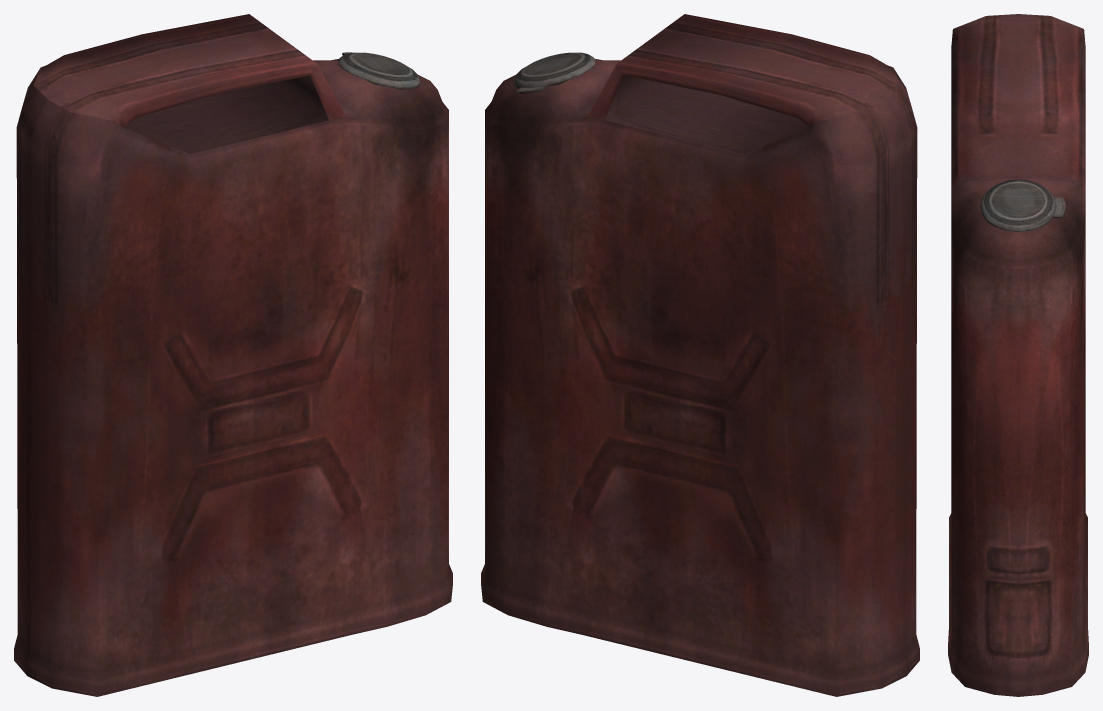
File: can_gas.dae
3 renders of one model, left to right at view 1: azimuth 30°, elevation 25°; view 2: azimuth 150°, elevation 25°; view 3: azimuth 270°, elevation 25°, orthographic. The views are drawn at different scales.
Visible parts, largest first — view 1: can_gas; view 2: can_gas; view 3: can_gas.
Boxes of the visible parts, left/top/right/bottom form: can_gas: left=14, top=14, right=452, bottom=696; can_gas: left=481, top=14, right=919, bottom=696; can_gas: left=948, top=14, right=1088, bottom=696.
Bounding box in the file's own units: 0.3748 × 0.4987 × 0.1229.
1 material, 1 textured.
